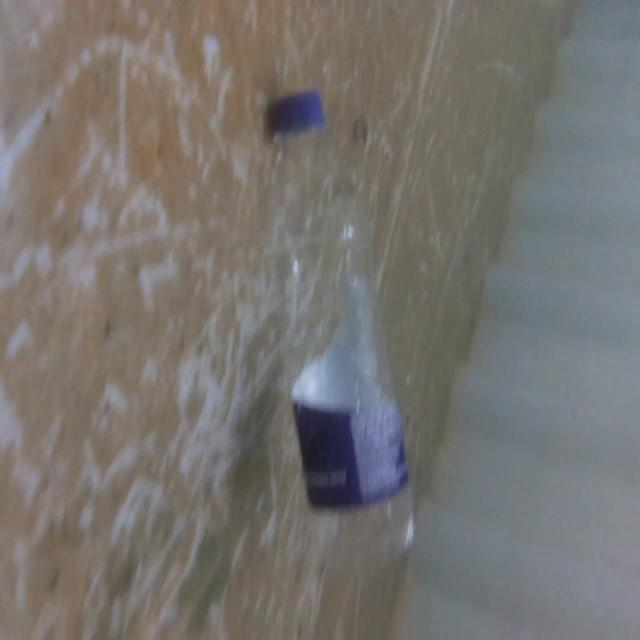plastic bottle: (251, 92, 436, 576)
